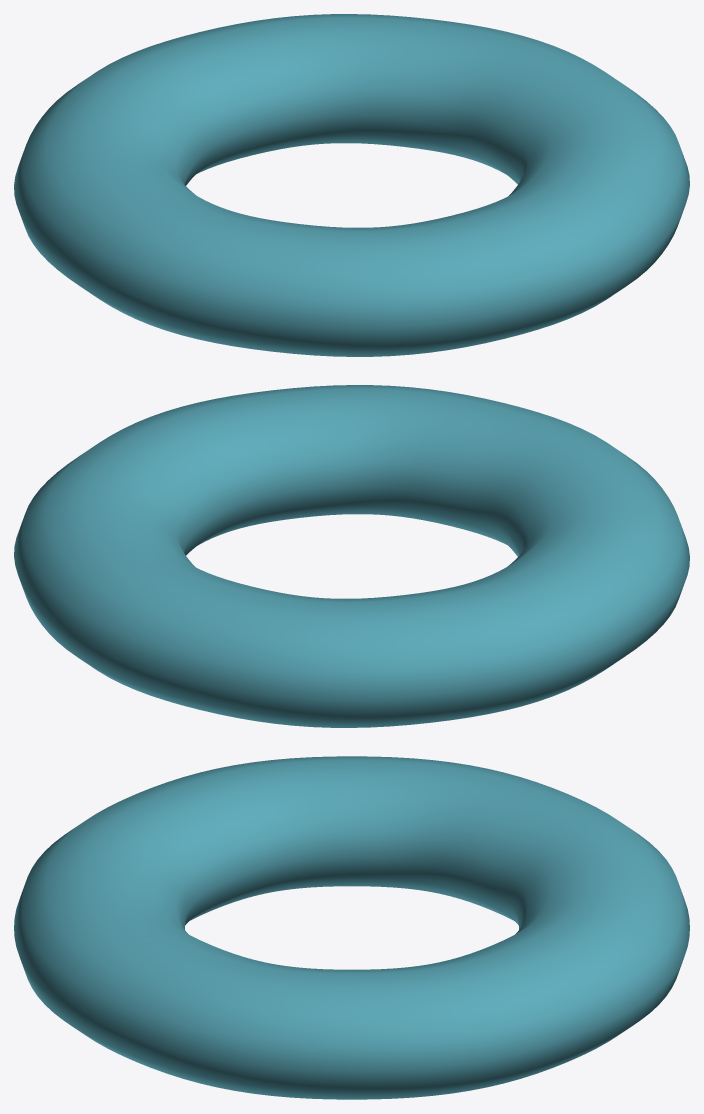
The model's file is ring.glb.
The picture shows the model from 3 angles, top to bottom: view 1: azimuth 30°, elevation 25°; view 2: azimuth 150°, elevation 25°; view 3: azimuth 270°, elevation 25°; orthographic projection.
Visible parts, largest first — view 1: Ring; view 2: Ring; view 3: Ring.
Boxes of the visible parts, box(x1,y1,x2,y2) form: Ring: box(14, 14, 689, 356); Ring: box(14, 385, 689, 727); Ring: box(14, 756, 689, 1099).
Size of the model in its own units: 1.66 by 0.2866 by 1.66.
